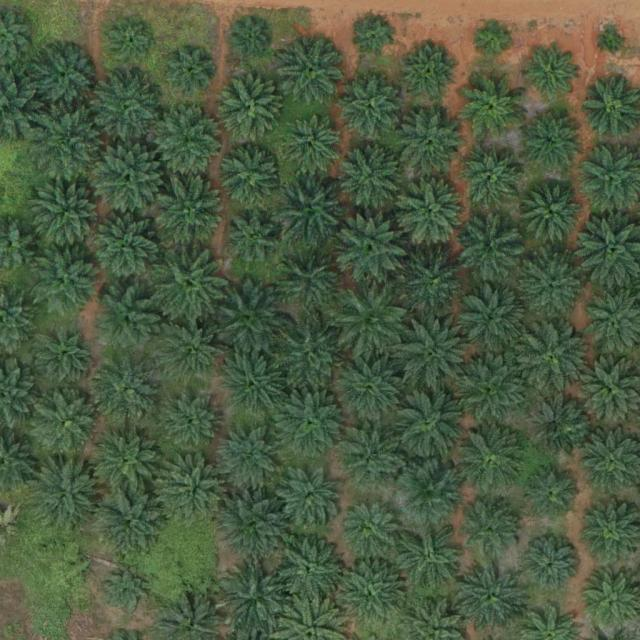Healthy: (30, 107, 108, 186), (89, 210, 167, 289), (152, 174, 230, 253), (151, 246, 229, 325), (211, 281, 289, 360), (271, 168, 349, 247), (271, 242, 349, 321), (271, 315, 349, 394), (334, 211, 412, 290), (333, 285, 411, 364), (393, 315, 471, 394), (391, 386, 469, 465), (333, 349, 411, 428), (272, 384, 350, 463), (218, 561, 296, 640), (394, 176, 472, 254), (513, 320, 591, 398), (454, 351, 532, 429), (454, 421, 532, 499), (32, 246, 103, 317), (91, 287, 162, 358), (220, 487, 291, 558), (91, 359, 162, 430), (34, 181, 104, 252), (93, 142, 163, 213), (159, 316, 229, 387), (457, 565, 527, 636), (336, 558, 406, 629), (275, 466, 345, 537), (276, 533, 346, 604), (91, 427, 162, 497), (32, 389, 102, 460), (31, 460, 101, 531), (28, 320, 98, 390), (90, 70, 160, 140), (154, 107, 224, 177), (395, 525, 465, 595), (160, 459, 230, 529), (94, 490, 164, 560), (219, 76, 282, 139), (279, 114, 342, 177), (399, 110, 462, 173), (404, 252, 467, 315), (460, 220, 523, 283), (520, 109, 583, 172), (525, 394, 588, 457), (400, 462, 463, 525), (32, 47, 95, 109), (219, 148, 281, 211), (223, 207, 285, 270), (283, 39, 345, 102), (340, 74, 402, 137), (340, 144, 402, 207), (463, 77, 525, 140), (460, 149, 522, 212), (463, 285, 525, 348), (522, 182, 584, 245), (520, 254, 582, 317), (461, 499, 523, 562), (344, 426, 406, 489), (222, 352, 285, 414), (217, 427, 279, 490), (159, 394, 221, 456), (524, 47, 579, 102), (524, 469, 579, 524), (522, 539, 577, 594), (344, 502, 399, 557), (406, 45, 460, 100)
Small: (108, 20, 155, 68), (169, 48, 216, 95), (104, 569, 151, 616), (232, 19, 271, 59), (473, 18, 512, 58), (357, 18, 396, 57), (603, 31, 626, 55)
